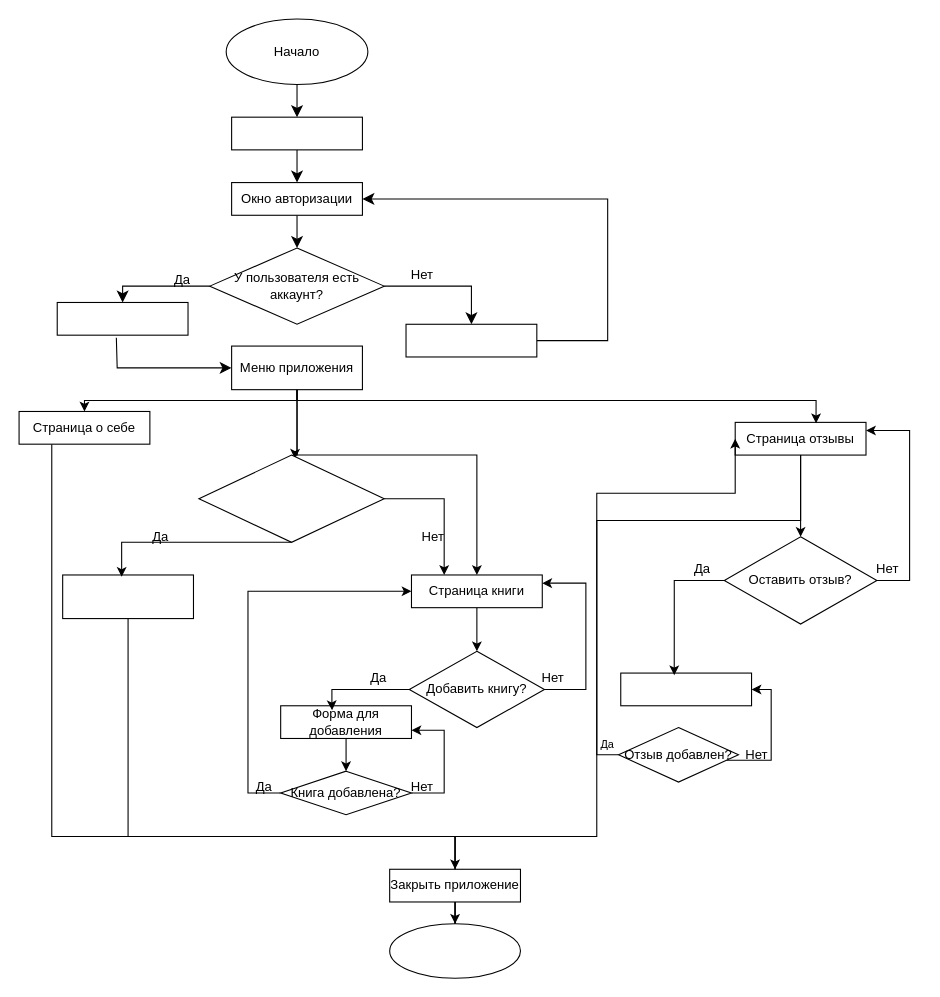
Some shapes in this 940 by 997 pixel diagram are drawn without their labels. The centre of each missing label's shape, as x and y in pixels:
"Авторизация" goes at point (122, 318).
"Запуск приложения" goes at point (296, 133).
"Конец" goes at point (454, 950).
"Регистрация" goes at point (471, 340).
"Страница книжной полки" goes at point (127, 596).
"У пользователя есть книги в полке?" goes at point (291, 498).
"Форма для отзыва" goes at point (686, 689).
